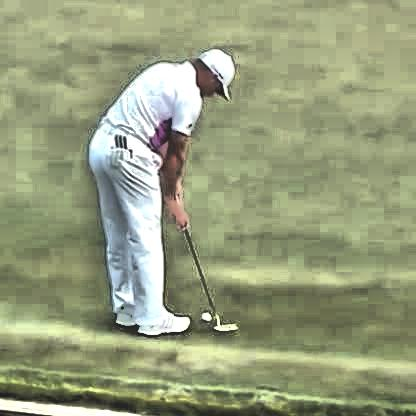golfball: (199, 306, 209, 319)
